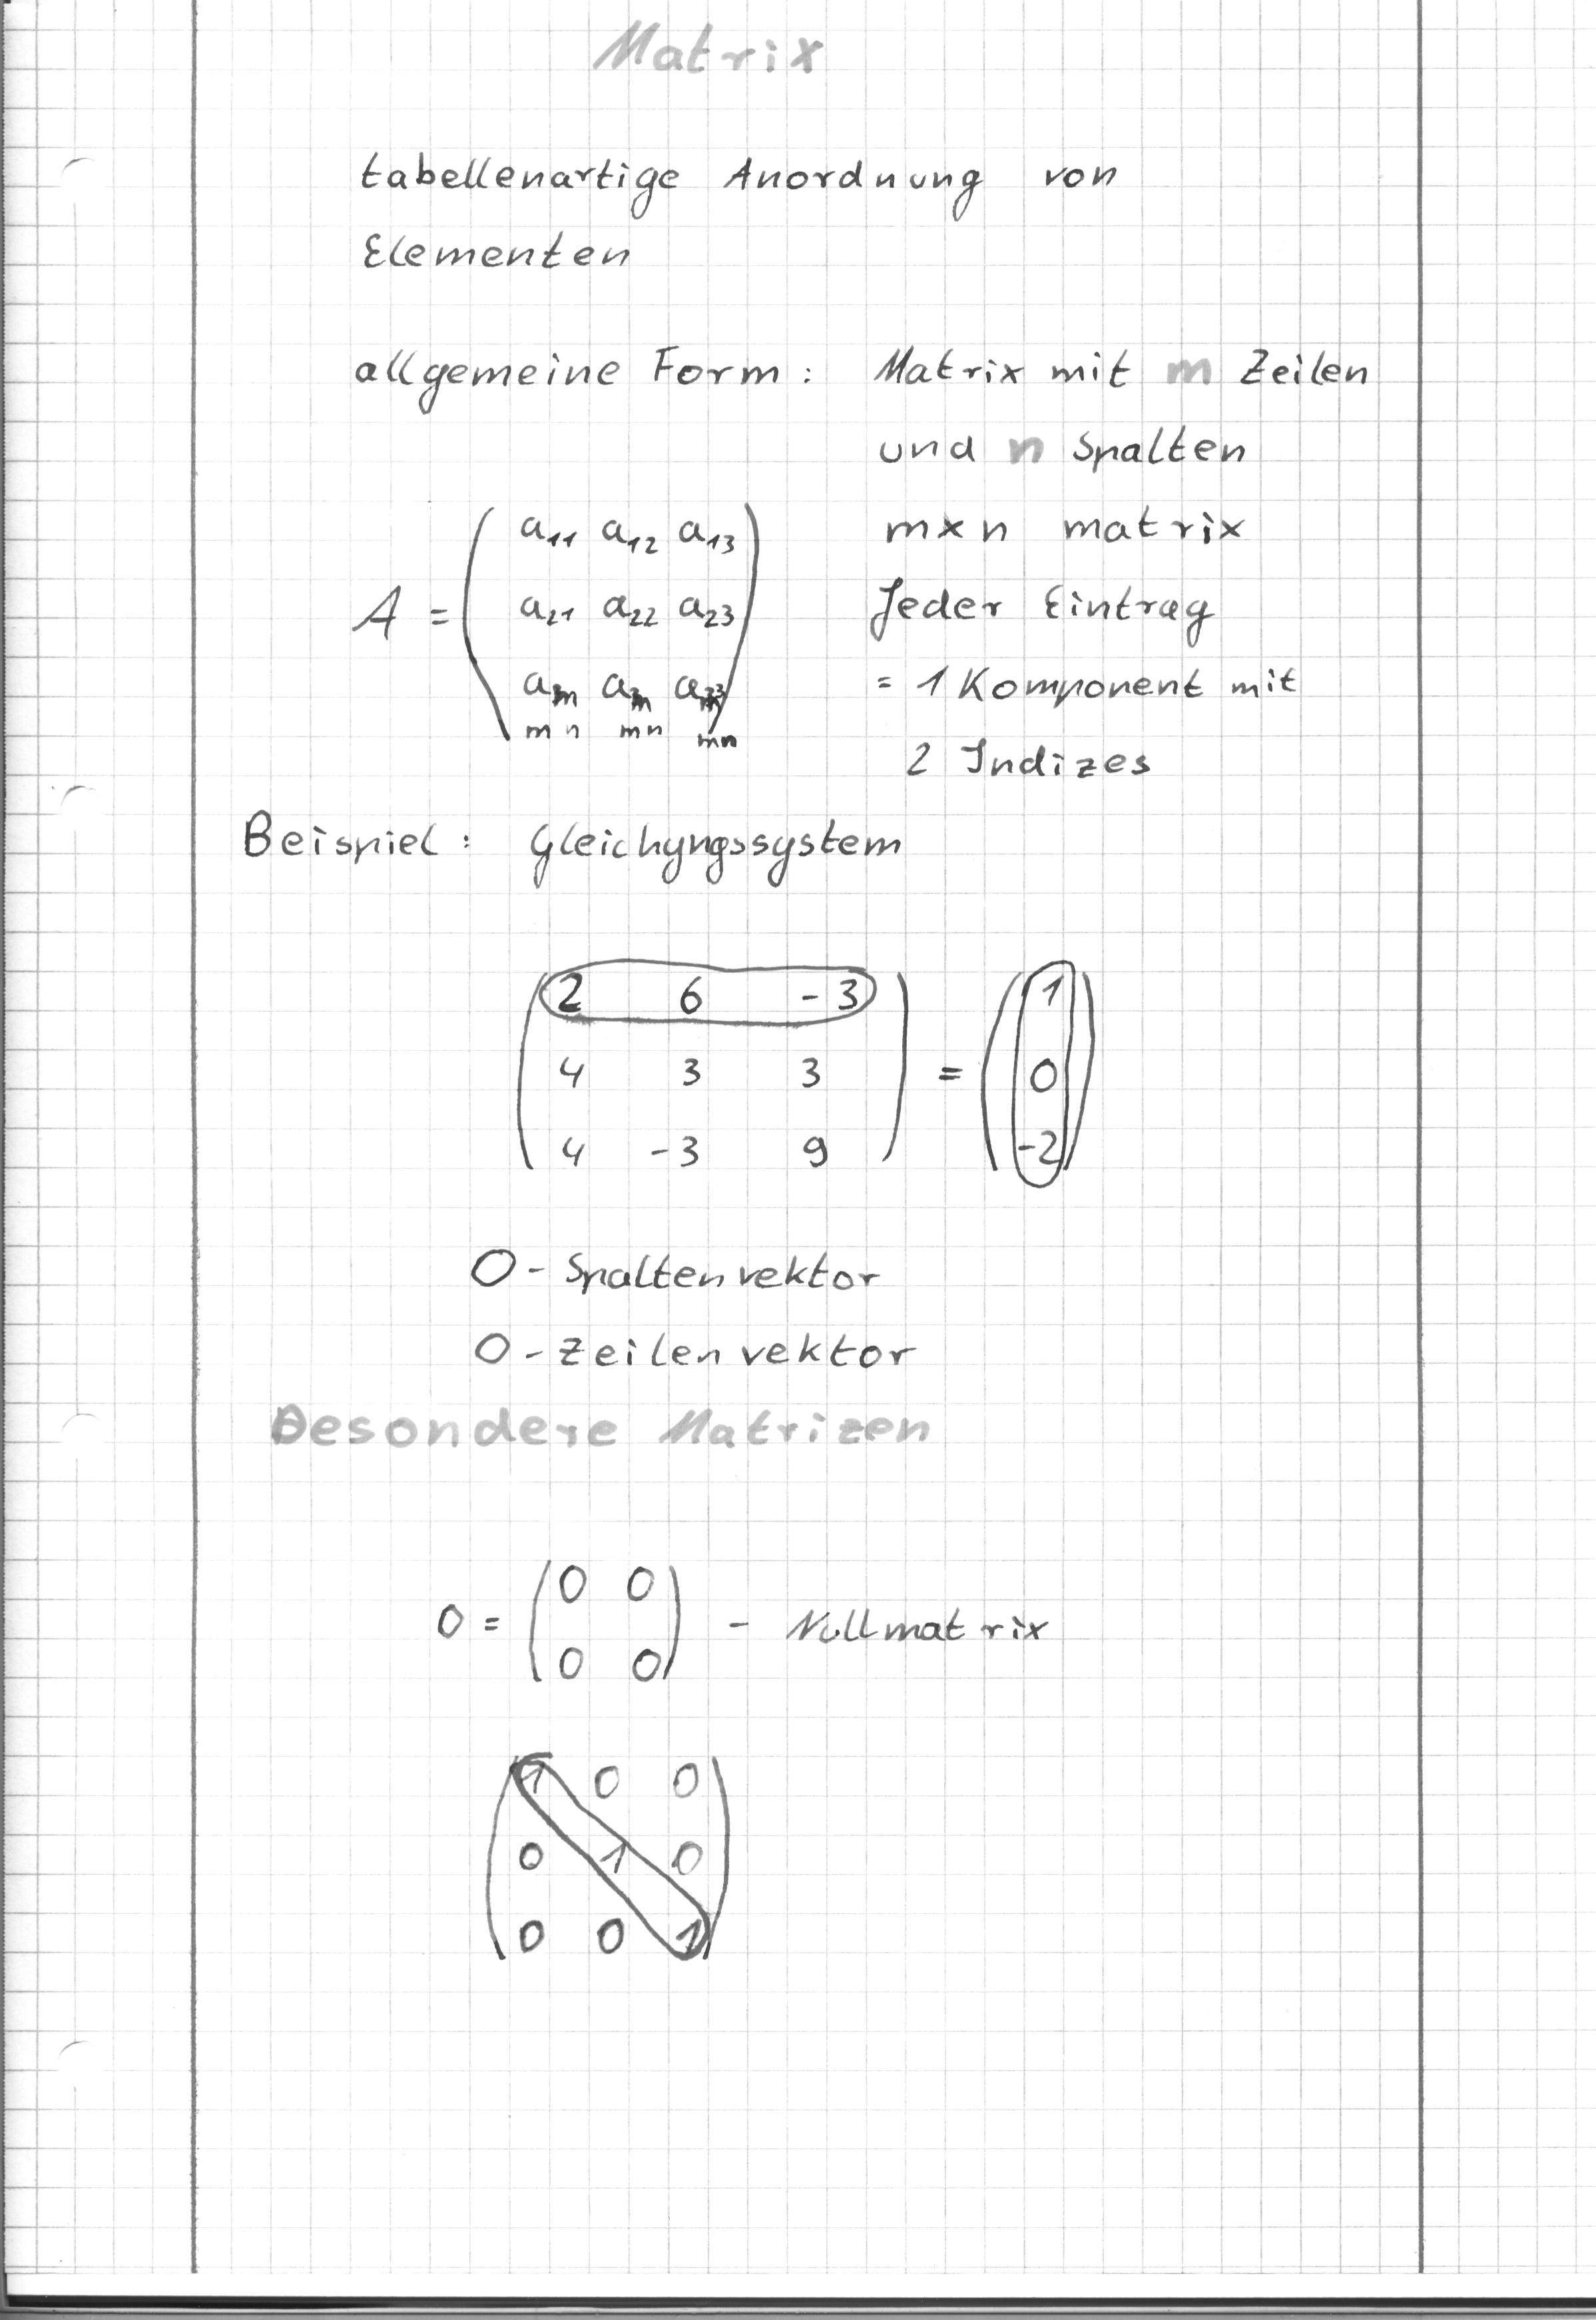word: (860, 340, 1390, 798), (504, 944, 1123, 1209), (330, 491, 788, 768), (349, 139, 1129, 281), (419, 1547, 1057, 1697), (224, 784, 926, 918), (467, 1739, 766, 1991), (517, 1237, 925, 1383), (348, 325, 834, 427)
